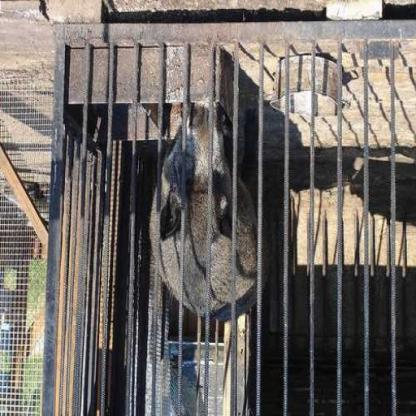boar: (142, 100, 273, 342)
